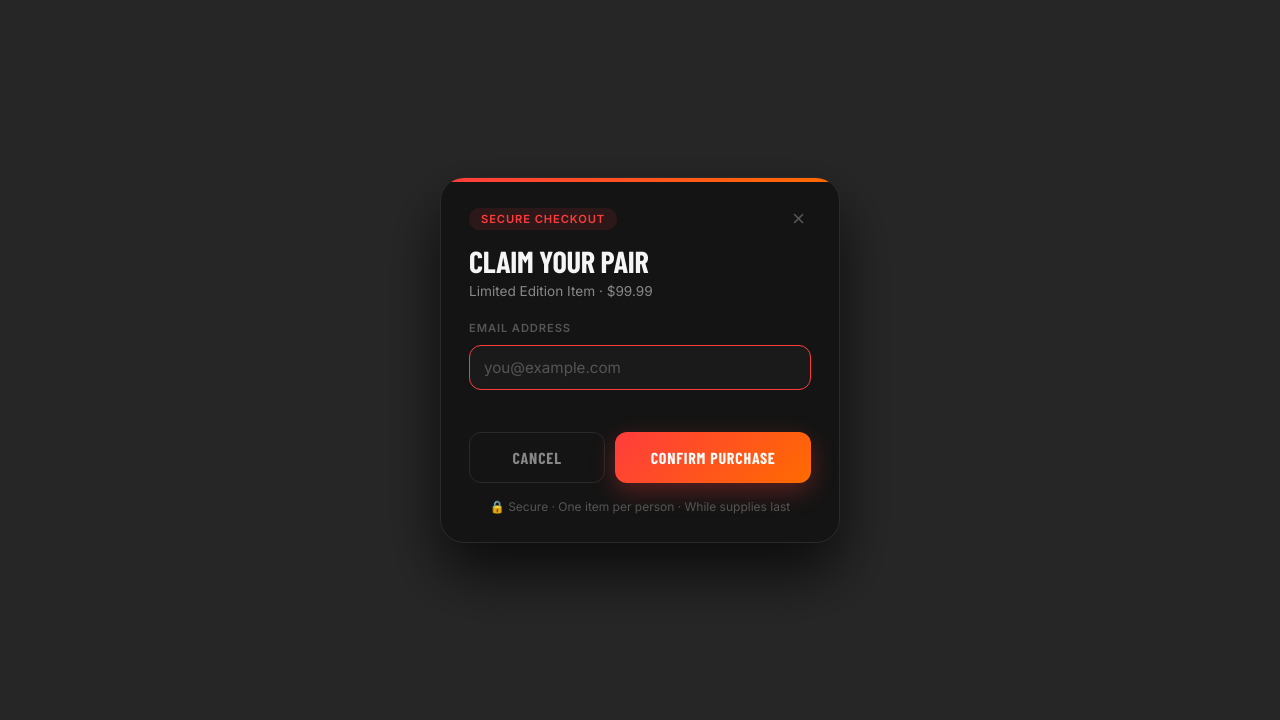
PurchaseModal › buys successfully: fetches a CSRF token, submits, and shows the confirmation state
The width and height of the screenshot is (1280, 720).
In the field labelled "Email address": (640, 367) [469,345,811,390], type "buyer@example.com"
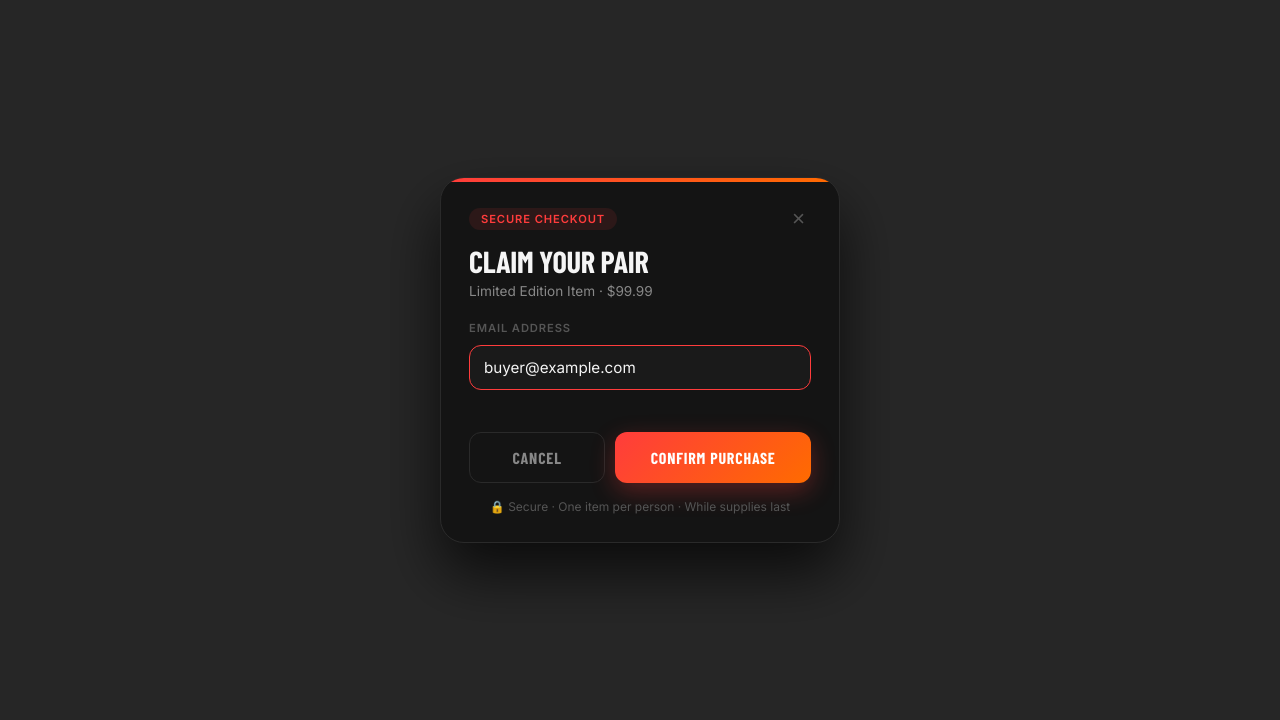
Click the button "Confirm purchase": (713, 458) [615,432,811,483]
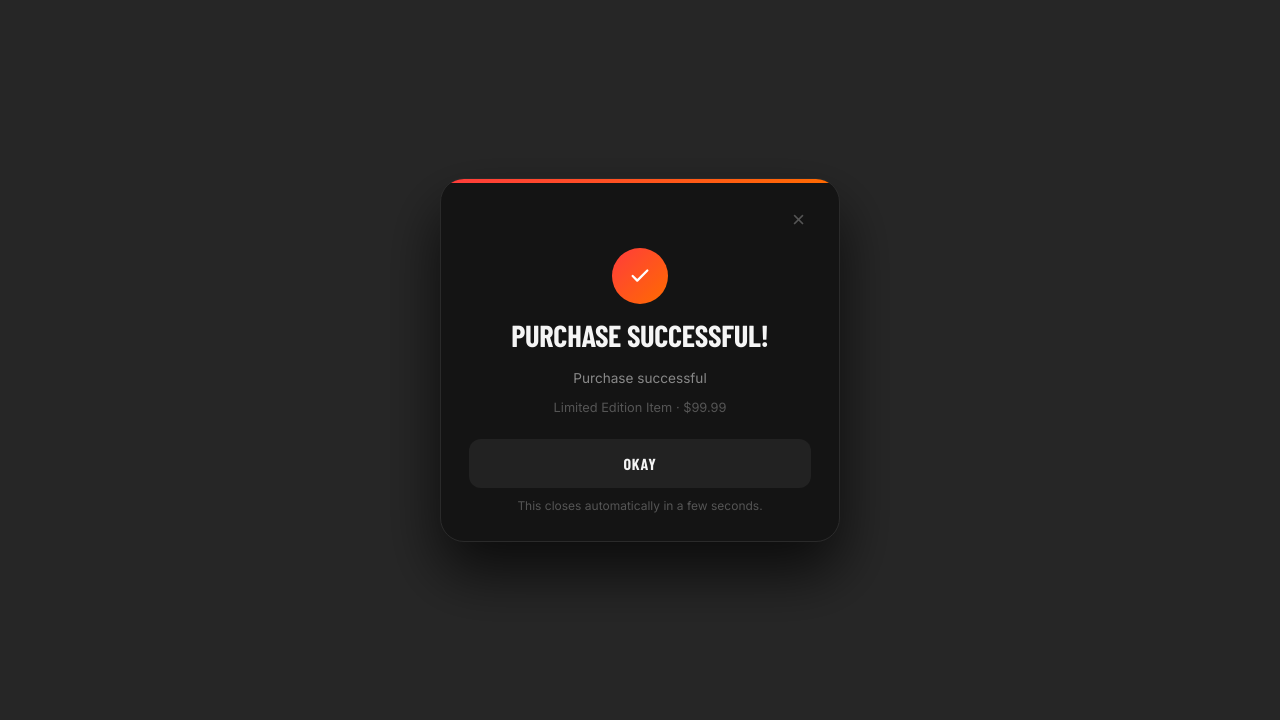
Expected: the heading "Purchase successful!" is shown, [511,320,769,350]
Expected: the text "Purchase successful" is shown, [573,370,707,386]
Expected: the button "Okay" is shown, [469,439,811,488]
